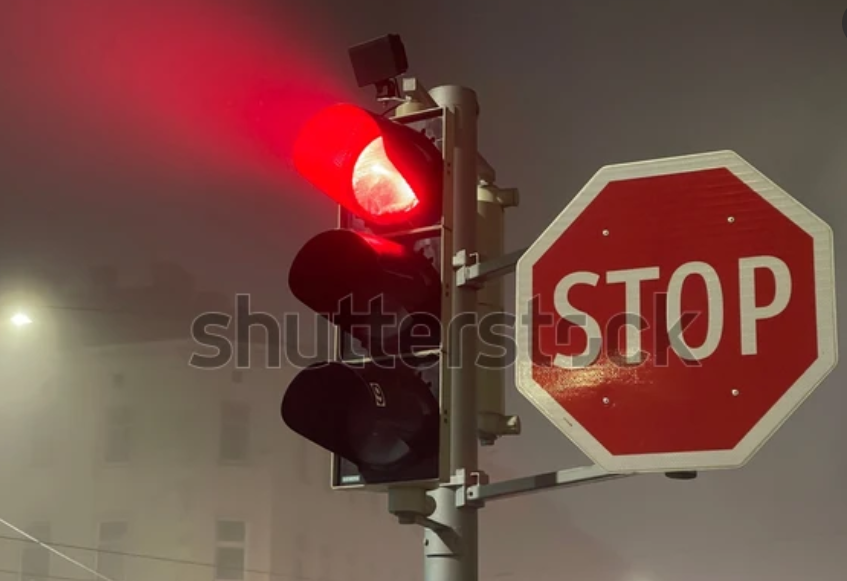Stop: (503, 140, 844, 486)
Traffic lights: (265, 96, 471, 499)
